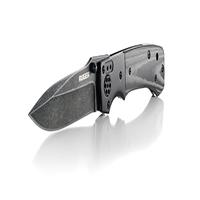knife: (21, 40, 171, 133)
